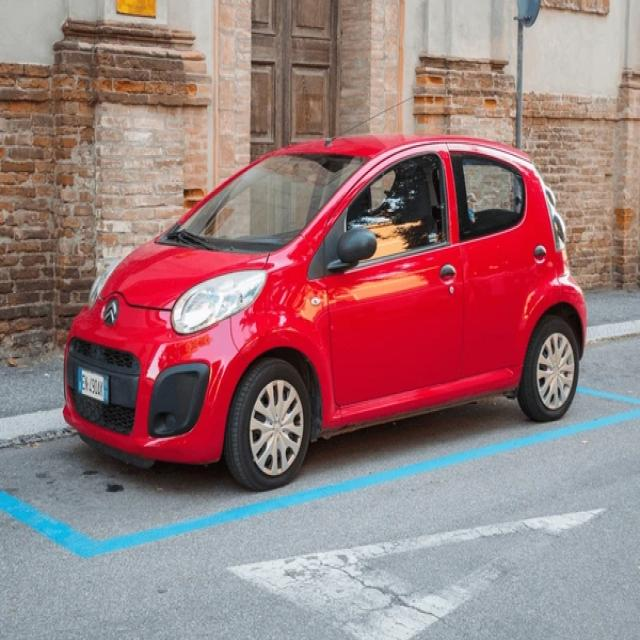citroen: (99, 295, 126, 334)
